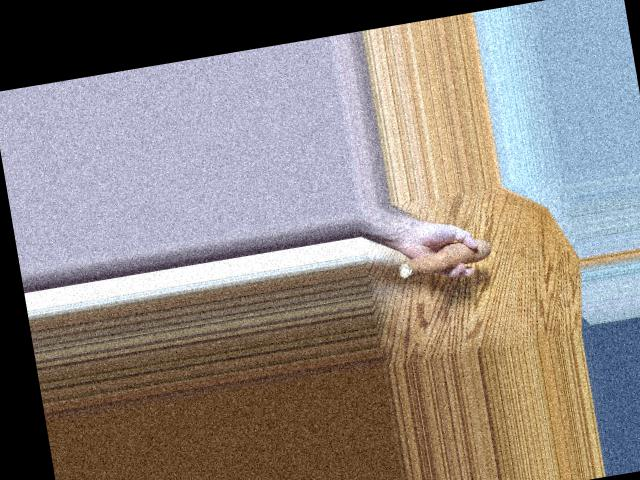sweet_potato: (403, 236, 487, 279)
